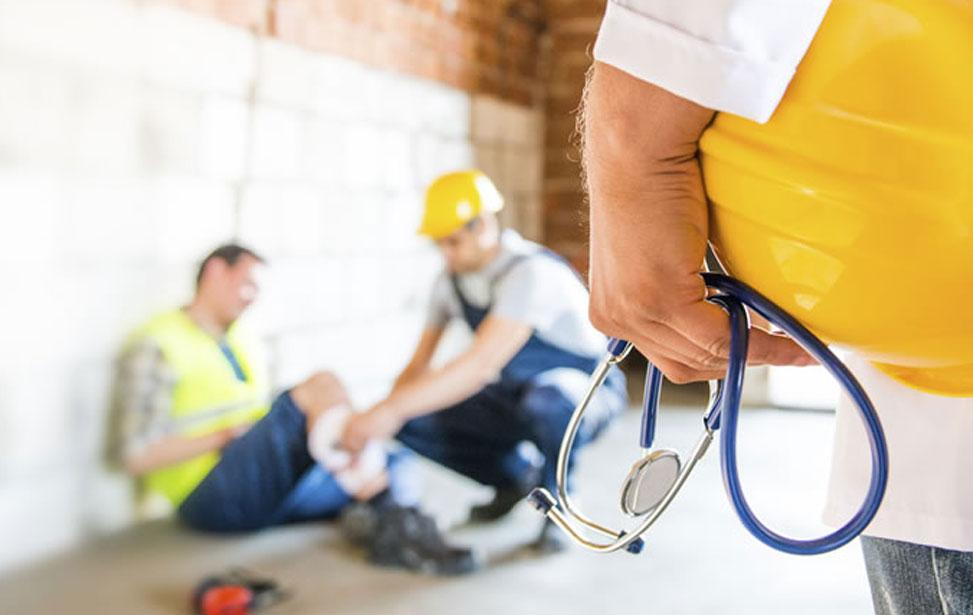helmet: (418, 168, 507, 242)
